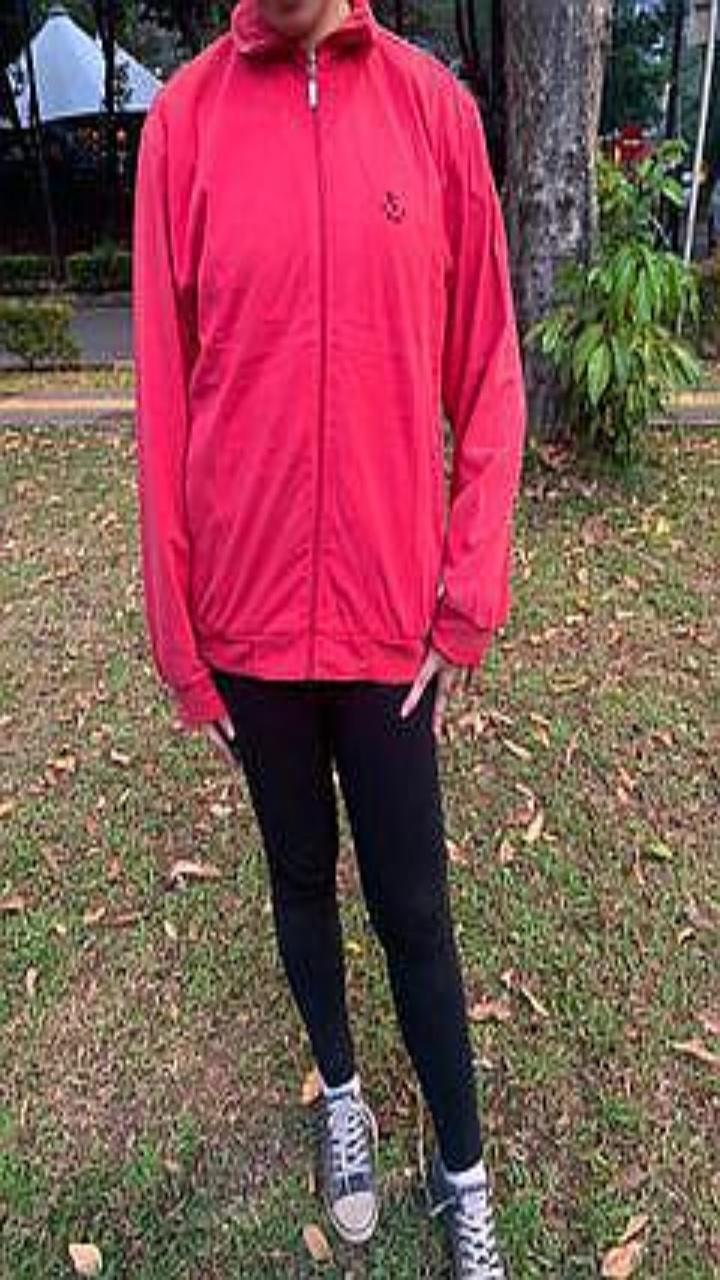Jeans: (212, 668, 482, 1169)
